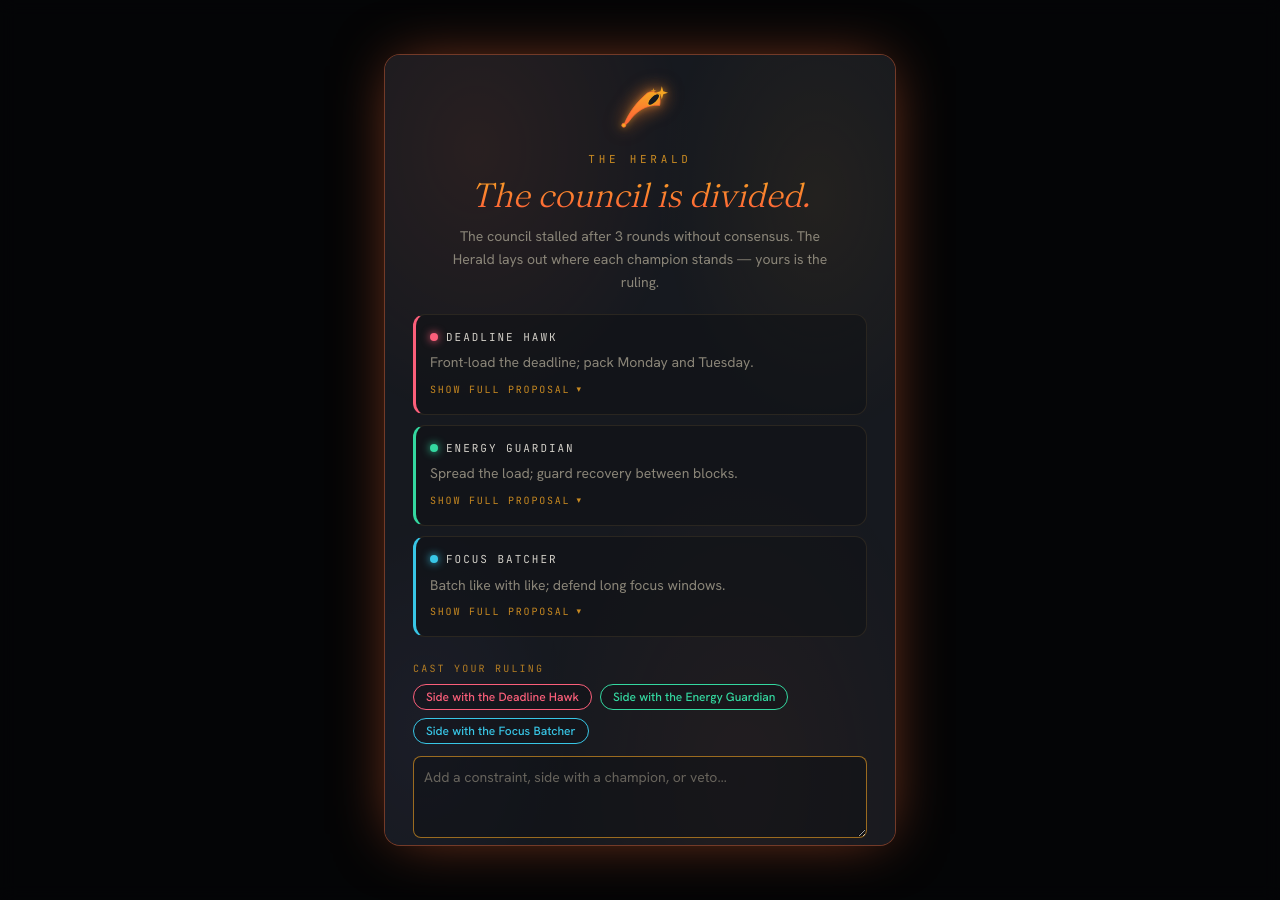
it: HeraldModal › leads each stance with the Herald's distilled summary when present
Check: the text "Front-load the deadline; pack Monday and Tuesday." is shown, box [430,353,754,371]
Check: the text "Front-load deep work Monday and Tuesday to clear the deadline." is not shown
Note: The full proposal is still reachable behind the fold.
Click the 1st button "Show full proposal ▾": (506, 390) [430,382,583,397]
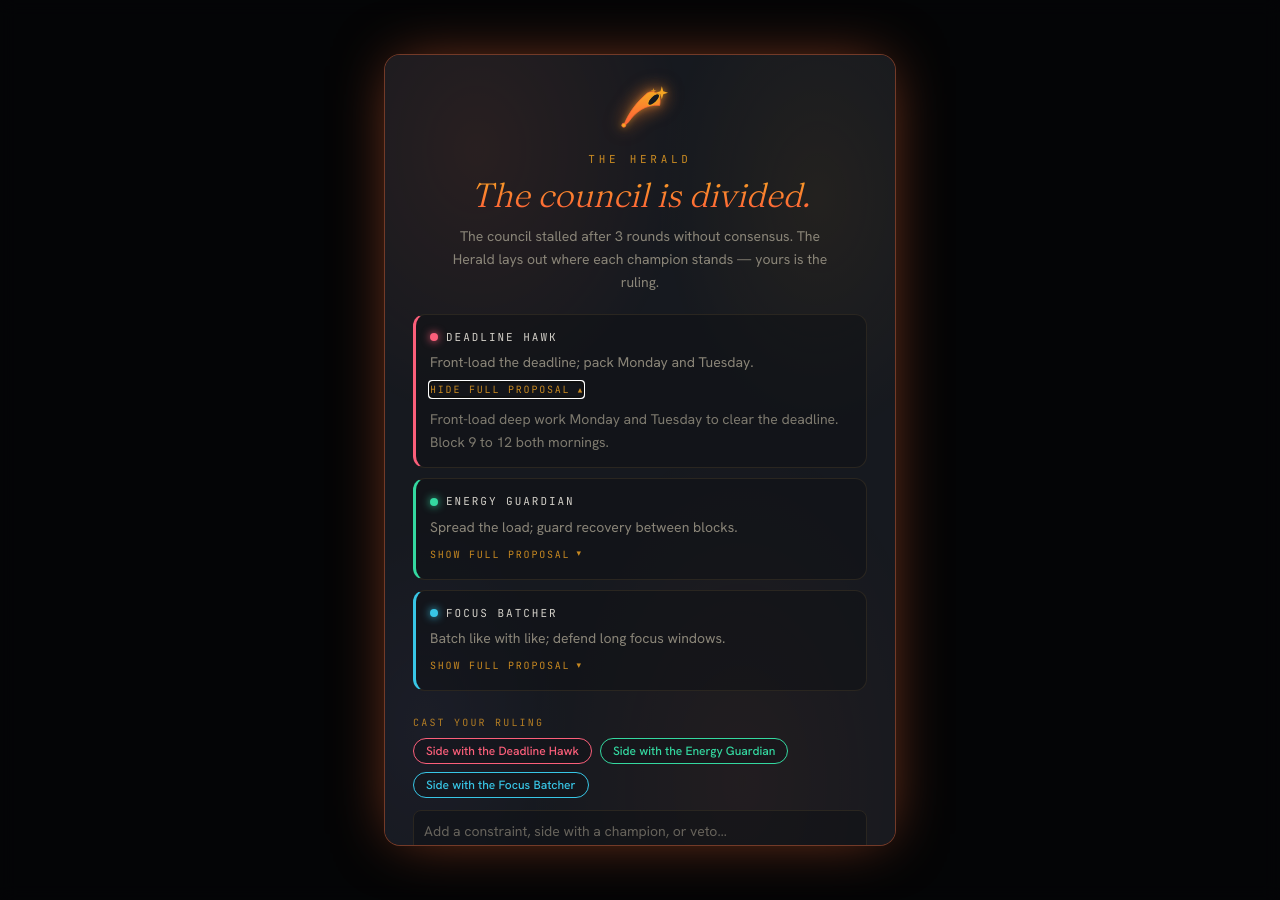
Check: the text "Block 9 to 12 both mornings" is shown, box [430,410,838,451]
